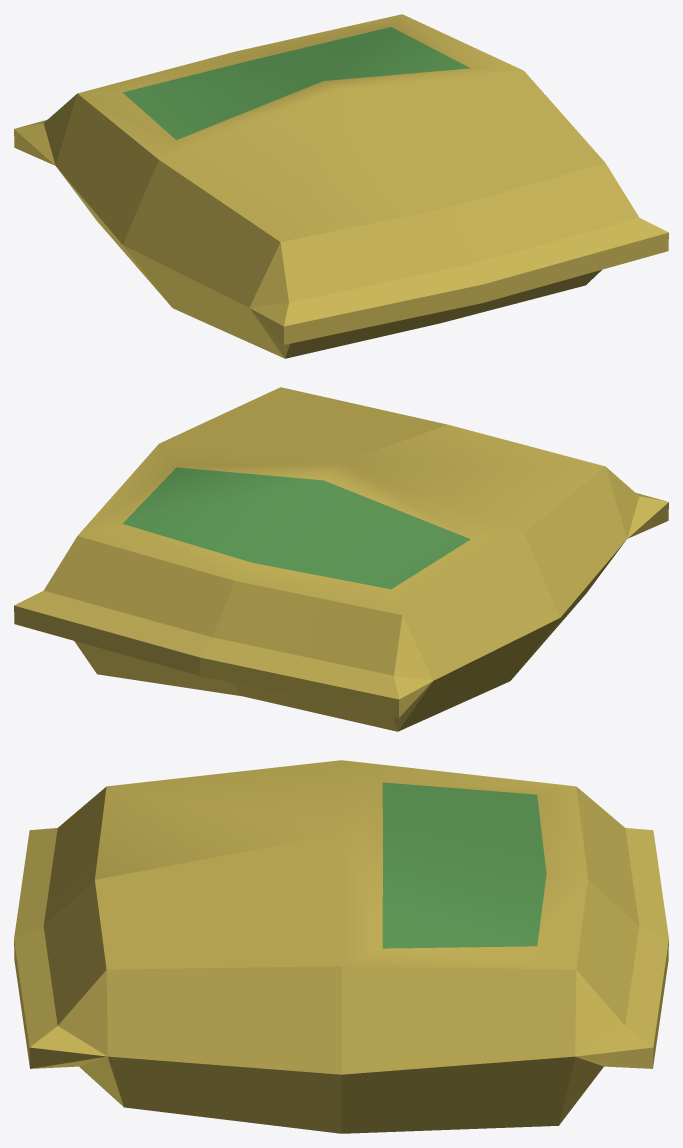
File: SM_Prop_Snack_03.obj
The picture shows the model from 3 angles, top to bottom: view 1: azimuth 30°, elevation 25°; view 2: azimuth 150°, elevation 25°; view 3: azimuth 270°, elevation 25°; orthographic projection. The views are drawn at different scales.
Visible parts, largest first — view 1: SM_Prop_Snack_03_M_PolygonOffice_01_A; view 2: SM_Prop_Snack_03_M_PolygonOffice_01_A; view 3: SM_Prop_Snack_03_M_PolygonOffice_01_A.
Part boxes in pixels (x1=…): SM_Prop_Snack_03_M_PolygonOffice_01_A: x1=14, y1=14, x2=668, y2=358; SM_Prop_Snack_03_M_PolygonOffice_01_A: x1=14, y1=387, x2=668, y2=731; SM_Prop_Snack_03_M_PolygonOffice_01_A: x1=14, y1=760, x2=668, y2=1133.
Bounding box in the file's own units: 0.3061 × 0.1364 × 0.3433.
Materials: 1 (1 with a texture image).
